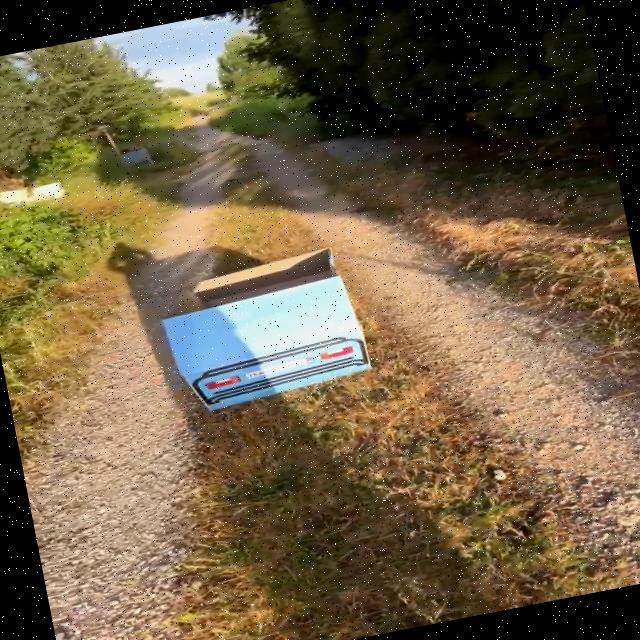blue_car: (135, 207, 424, 455)
